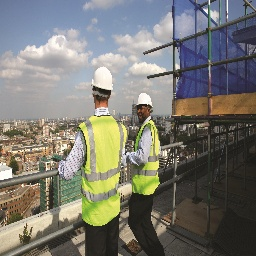helmet: (88, 63, 118, 93), (134, 91, 155, 112)
person: (71, 63, 126, 256), (127, 90, 166, 256)
vest: (75, 113, 125, 222), (133, 122, 162, 198)
